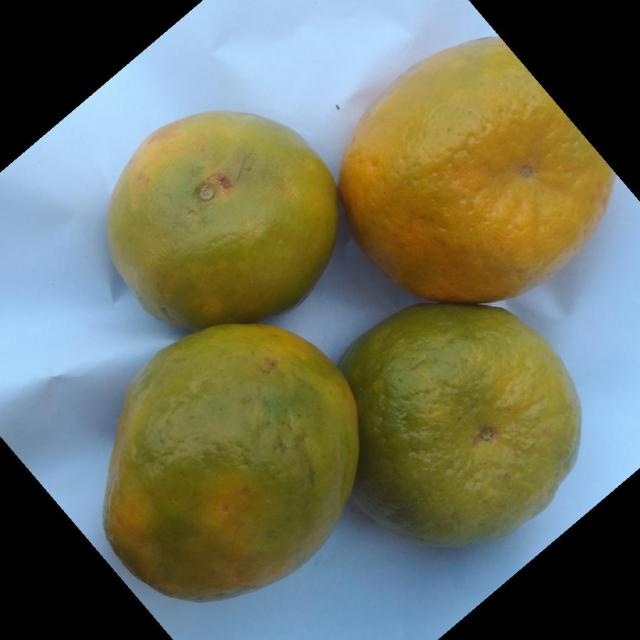agrume: (337, 35, 615, 304), (102, 321, 360, 602), (337, 301, 582, 547), (105, 109, 339, 330)
